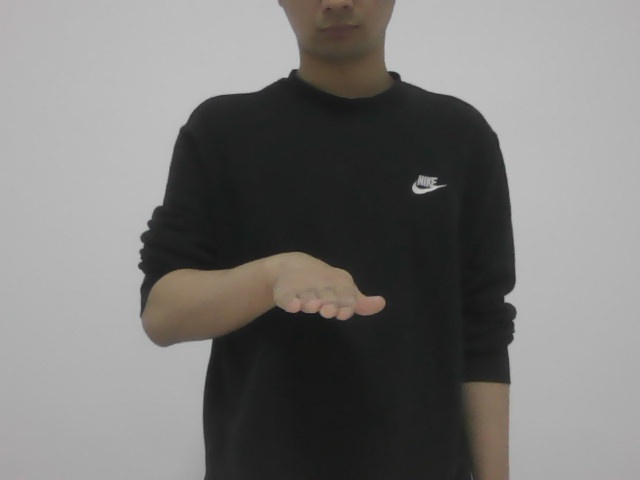slow: (254, 240, 397, 331)
